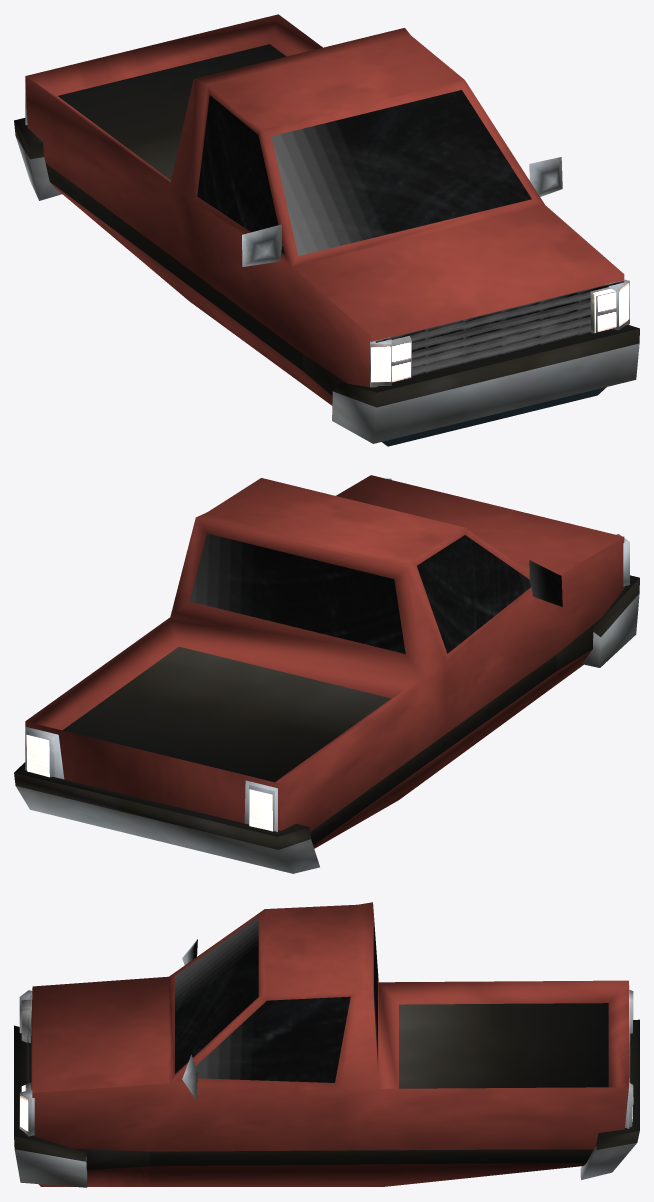
Rendered from EnemyCar_4.fbx.
3 views of the same model, one above another, from view 1: azimuth 30°, elevation 25°; view 2: azimuth 150°, elevation 25°; view 3: azimuth 270°, elevation 25° (orthographic). The views are drawn at different scales.
Visible parts, largest first — view 1: StationWagon.002; view 2: StationWagon.002; view 3: StationWagon.002.
Part boxes in pixels (left/top/right/bottom): StationWagon.002: left=14, top=14, right=639, bottom=446; StationWagon.002: left=14, top=475, right=639, bottom=873; StationWagon.002: left=14, top=902, right=639, bottom=1187.
Size of the model in its own units: 75.86 by 51.35 by 149.
